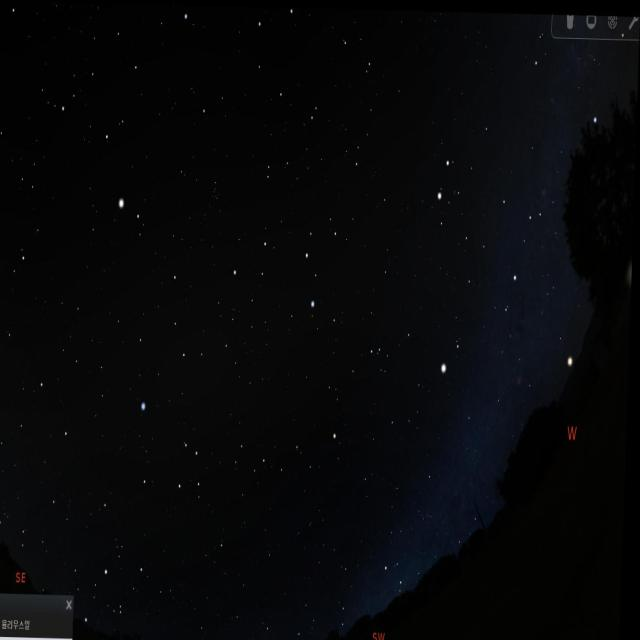bootes: (76, 18, 150, 210)
canis_minor: (437, 320, 475, 379)
gemini: (428, 135, 541, 291)
leo: (233, 216, 350, 334)
